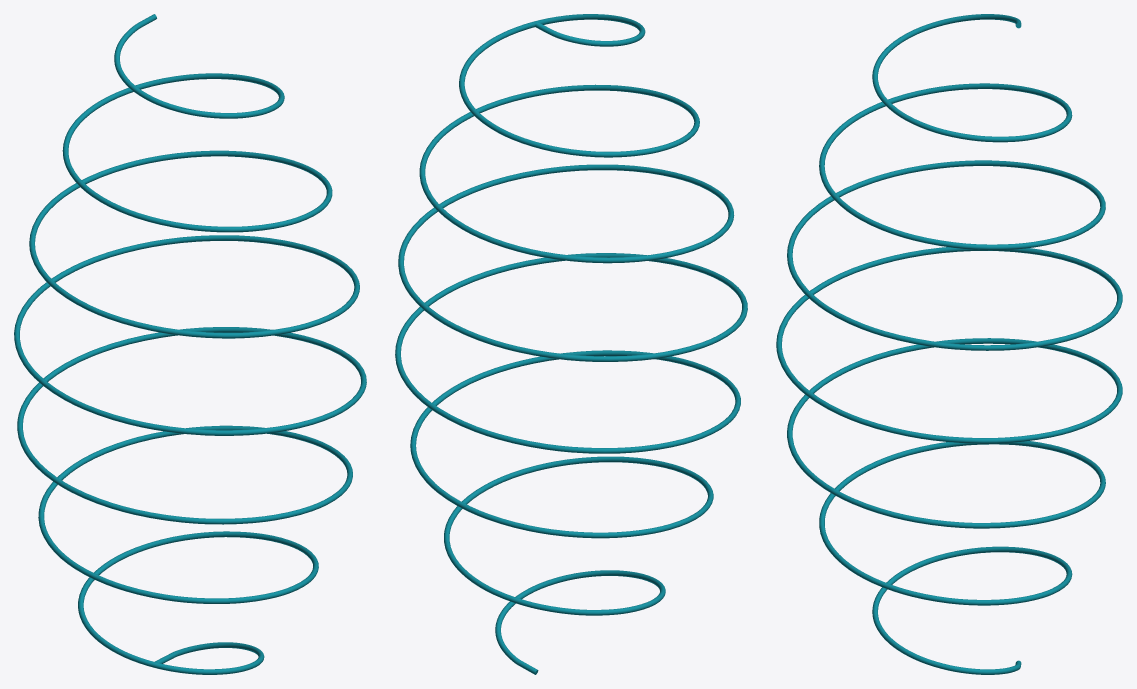
The model's file is week.obj.
3 renders of one model, left to right at view 1: azimuth 30°, elevation 25°; view 2: azimuth 150°, elevation 25°; view 3: azimuth 270°, elevation 25°, orthographic.
Visible parts, largest first — view 1: dy; view 2: dy; view 3: dy.
Part boxes in pixels (box(x1,y1,x2,y2)): dy: box(14, 14, 366, 674); dy: box(395, 14, 747, 674); dy: box(776, 14, 1122, 674).
Size of the model in its own units: 98.68 by 202 by 98.48.
